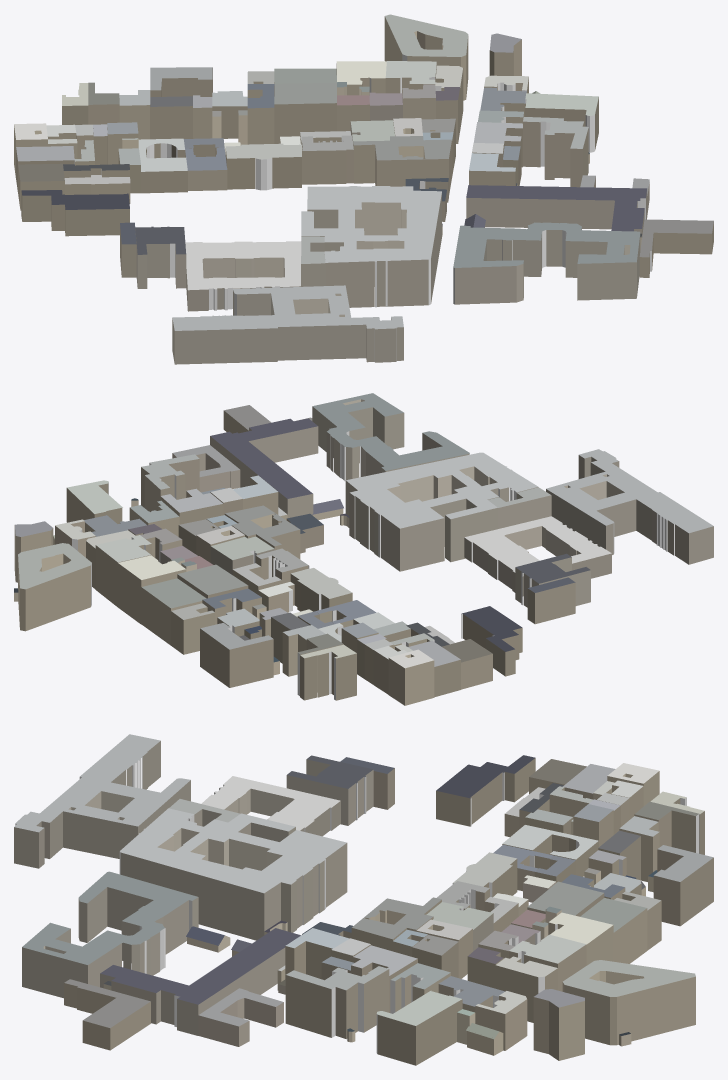
3 renders of one model, top to bottom at view 1: azimuth 30°, elevation 25°; view 2: azimuth 150°, elevation 25°; view 3: azimuth 270°, elevation 25°, orthographic. The views are drawn at different scales.
Parts seen in each view (by area): view 1: tuile; view 2: tuile; view 3: tuile.
Part boxes in pixels (box(x1,y1,x2,y2)): tuile: box(14, 14, 713, 364); tuile: box(14, 393, 713, 705); tuile: box(14, 734, 713, 1065).
Bounding box in the file's own units: 292 × 26.97 × 294.
